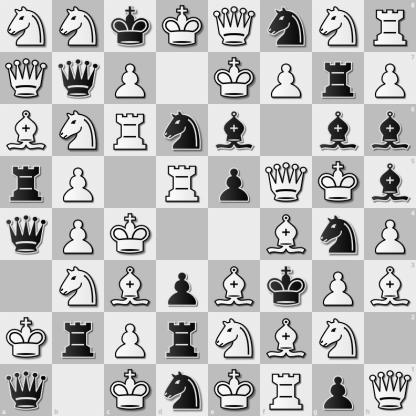B: (364, 260, 416, 312), (1, 105, 52, 156), (105, 261, 156, 312), (209, 261, 260, 312), (261, 209, 312, 260), (261, 313, 312, 364)
K: (104, 364, 156, 416), (209, 364, 260, 416), (1, 313, 52, 364), (105, 209, 156, 260), (157, 1, 208, 52), (209, 53, 260, 104), (313, 157, 364, 208)
N: (1, 1, 52, 52), (53, 1, 104, 52), (53, 105, 104, 156), (53, 261, 104, 312), (209, 313, 260, 364), (313, 1, 364, 52), (313, 313, 364, 364)
P: (364, 52, 416, 104), (364, 209, 416, 260), (53, 157, 104, 208), (53, 209, 104, 260), (105, 53, 156, 104), (105, 313, 156, 364), (261, 53, 312, 104), (313, 261, 364, 312)
Q: (364, 364, 416, 416), (1, 53, 52, 104), (209, 1, 260, 52), (261, 157, 312, 208)
R: (260, 364, 312, 416), (364, 0, 416, 52), (105, 105, 156, 156), (157, 157, 208, 208)
b: (364, 156, 416, 209), (364, 104, 416, 156), (209, 105, 260, 156), (313, 105, 364, 156)
board: (0, 0, 415, 415)
k: (105, 1, 156, 52), (261, 261, 312, 312)
n: (156, 364, 209, 416), (157, 105, 208, 156), (261, 1, 312, 52), (313, 209, 364, 260)
p: (312, 364, 364, 416), (157, 261, 208, 312), (209, 157, 260, 208)
q: (0, 364, 52, 416), (1, 209, 52, 260), (53, 53, 104, 104)
r: (1, 157, 52, 208), (53, 313, 104, 364), (157, 313, 208, 364), (313, 53, 364, 104)
